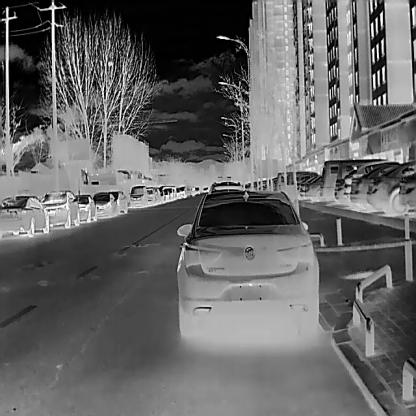car: (175, 191, 318, 351), (351, 166, 408, 208), (366, 165, 415, 213), (0, 193, 49, 235), (40, 191, 80, 227), (207, 180, 243, 206), (72, 194, 96, 222), (321, 160, 337, 202), (92, 192, 117, 217), (127, 186, 148, 206), (116, 191, 127, 213)
